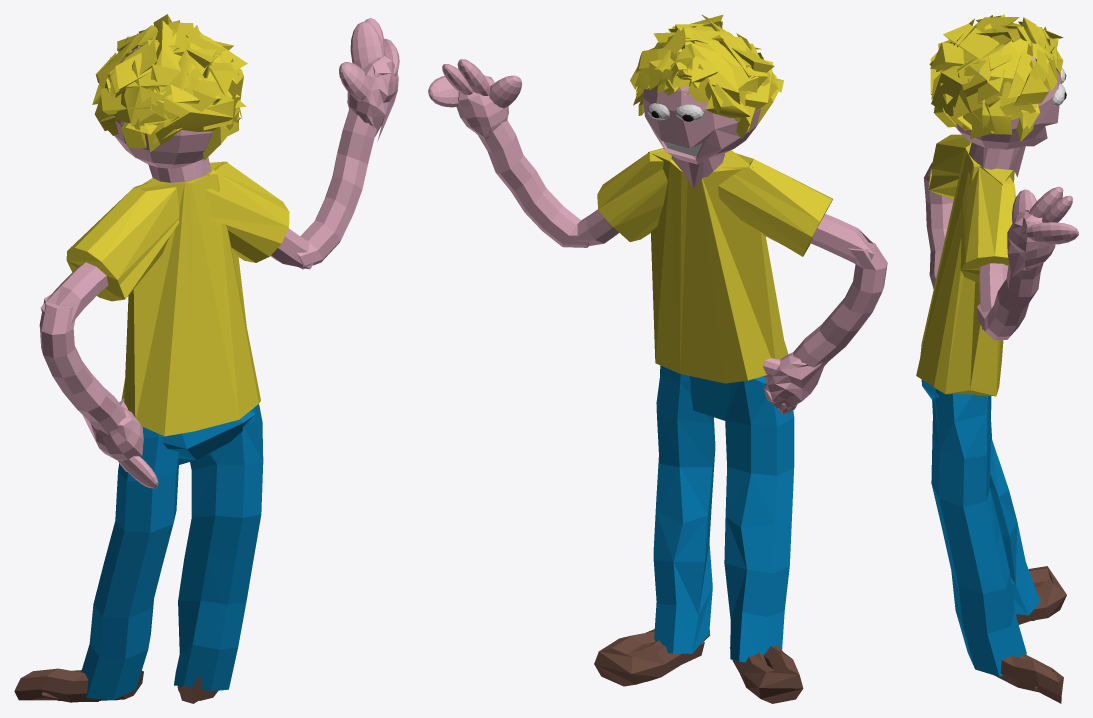
Rendered from asset.gltf.
The picture shows the model from 3 angles, left to right: view 1: azimuth 30°, elevation 25°; view 2: azimuth 150°, elevation 25°; view 3: azimuth 270°, elevation 25°; orthographic projection. The views are drawn at different scales.
Visible parts, largest first — view 1: node_MeshObject-612992384-PolyPaper12, node_MeshObject-1481605184-PolyPaper23; view 2: node_MeshObject-612992384-PolyPaper12, node_MeshObject-1481605184-PolyPaper23; view 3: node_MeshObject-612992384-PolyPaper12, node_MeshObject-1481605184-PolyPaper23.
Boxes of the visible parts, bbox=[...] form: node_MeshObject-612992384-PolyPaper12: bbox=[14, 14, 399, 703]; node_MeshObject-1481605184-PolyPaper23: bbox=[121, 161, 260, 436]; node_MeshObject-612992384-PolyPaper12: bbox=[428, 14, 887, 703]; node_MeshObject-1481605184-PolyPaper23: bbox=[647, 103, 788, 383]; node_MeshObject-612992384-PolyPaper12: bbox=[921, 14, 1078, 703]; node_MeshObject-1481605184-PolyPaper23: bbox=[916, 74, 1066, 396].
Bounding box in the file's own units: 2.71 × 4.34 × 0.9675.
